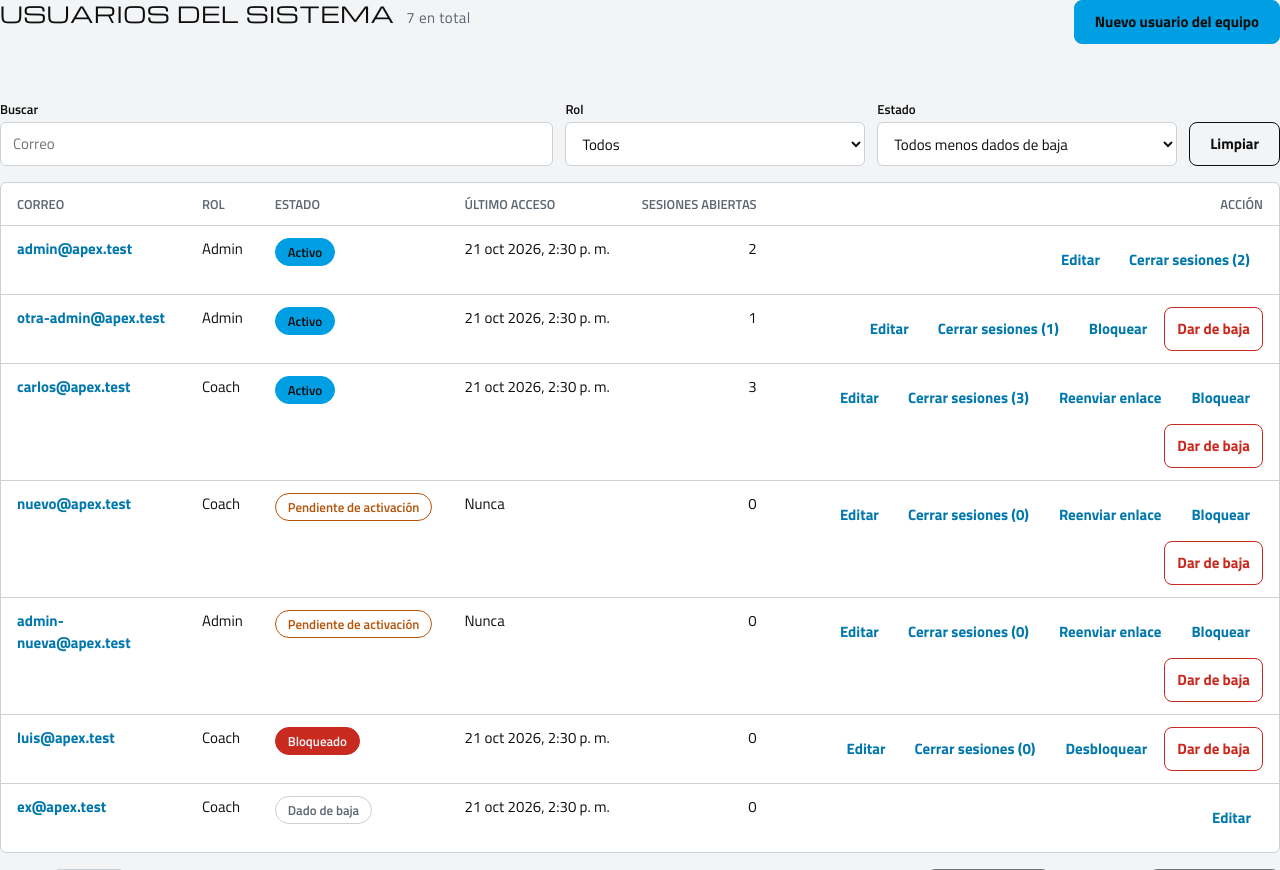
Test case: LinkModal · generar (US-052) › Volver cierra sin generar nada
The width and height of the screenshot is (1280, 870).
Click the button "Reenviar enlace" in the row of "carlos@apex.test". click: coordinates (1110, 398)
box: top-left (1046, 376), bottom-right (1174, 420)
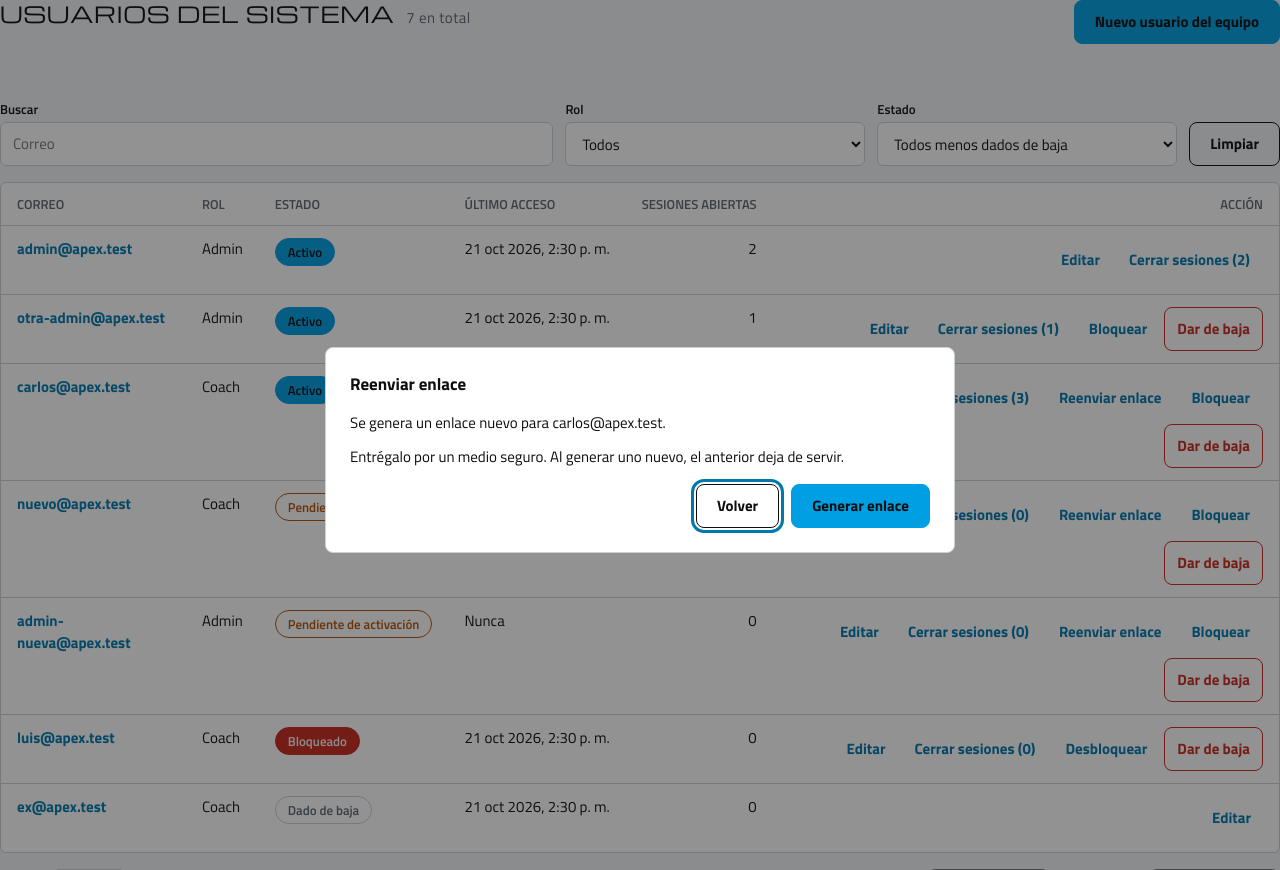
Click the button "Volver". click: coordinates (738, 506)
box: top-left (696, 484), bottom-right (779, 528)
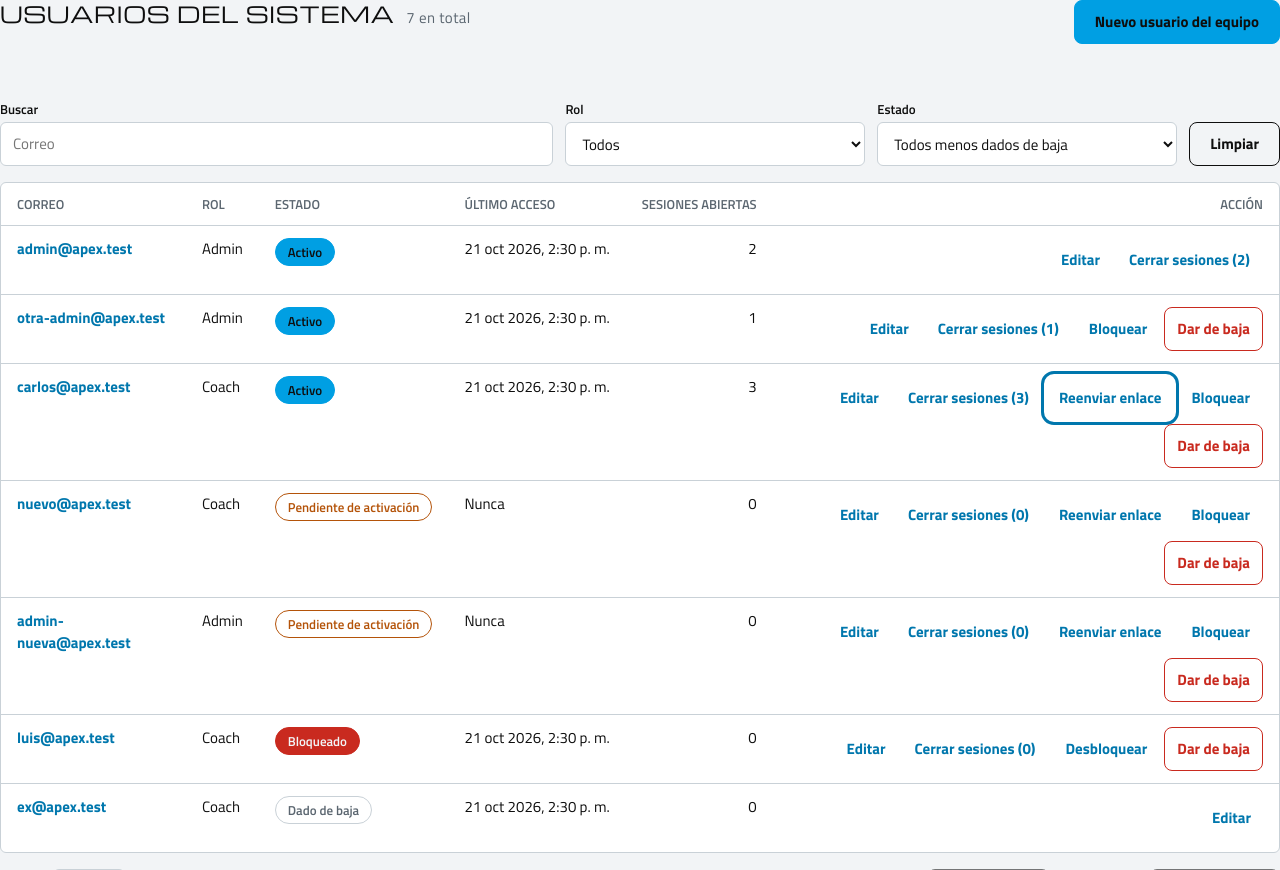
Expected: the dialog is gone
